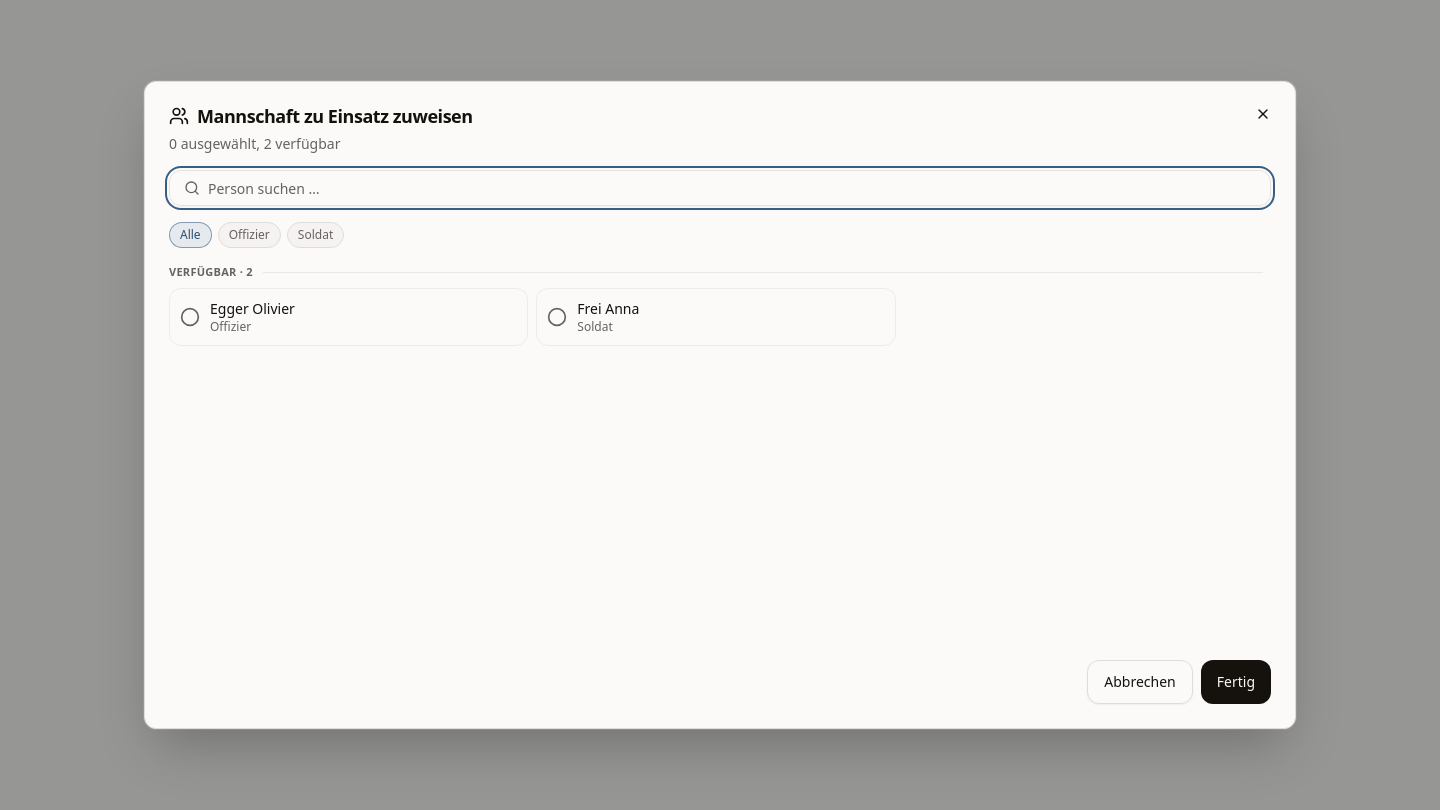
Scenario: (a) a filter emptied the list › «Filter zurücksetzen» lifts the filters and keeps the search and the ticks
The width and height of the screenshot is (1440, 810).
Step 1. Click the button "Frei Anna Soldat" → (608, 308), box [536,288,896,346]
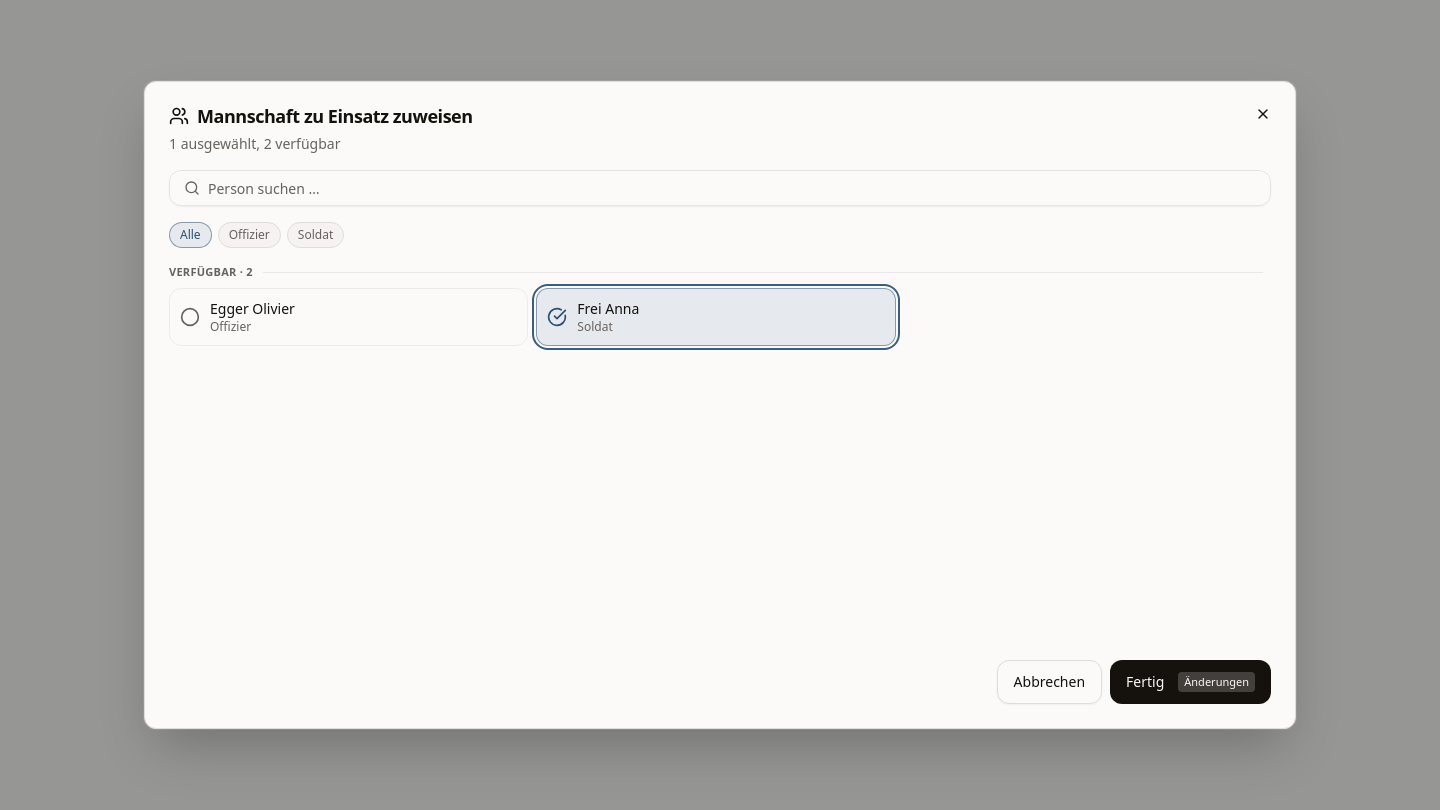
Step 2. Type "frei" into the field with placeholder "Person suchen …" → (720, 188), box [169,170,1271,206]
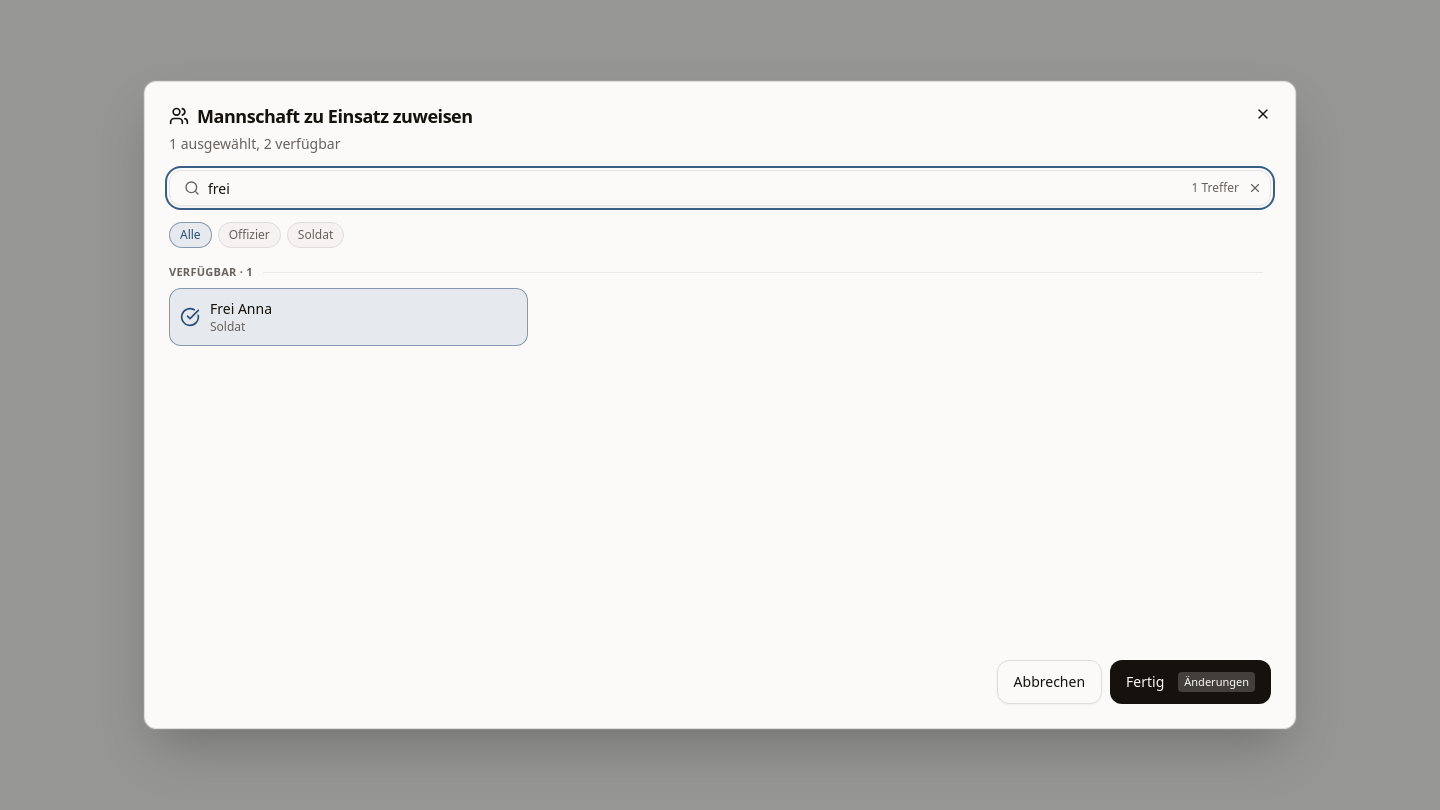
Step 3. Click the button "Offizier" → (249, 235), box [218,222,281,248]
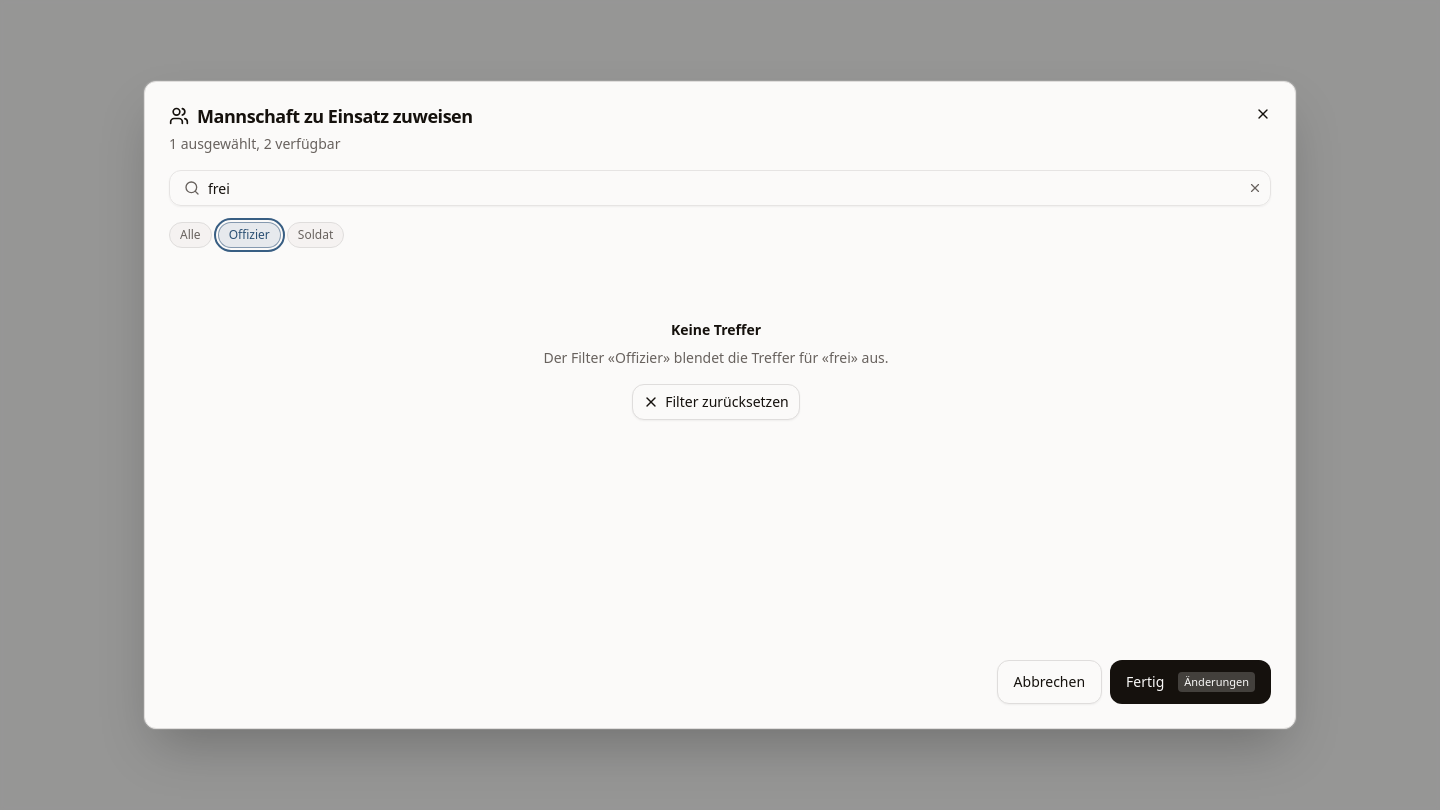
Expected: the message shows "«Offizier»", [544,348,889,367]
Expected: the message shows "«frei»", [544,348,889,367]
Step 4. Click the button "Filter zurücksetzen" → (716, 402), box [632,384,800,420]
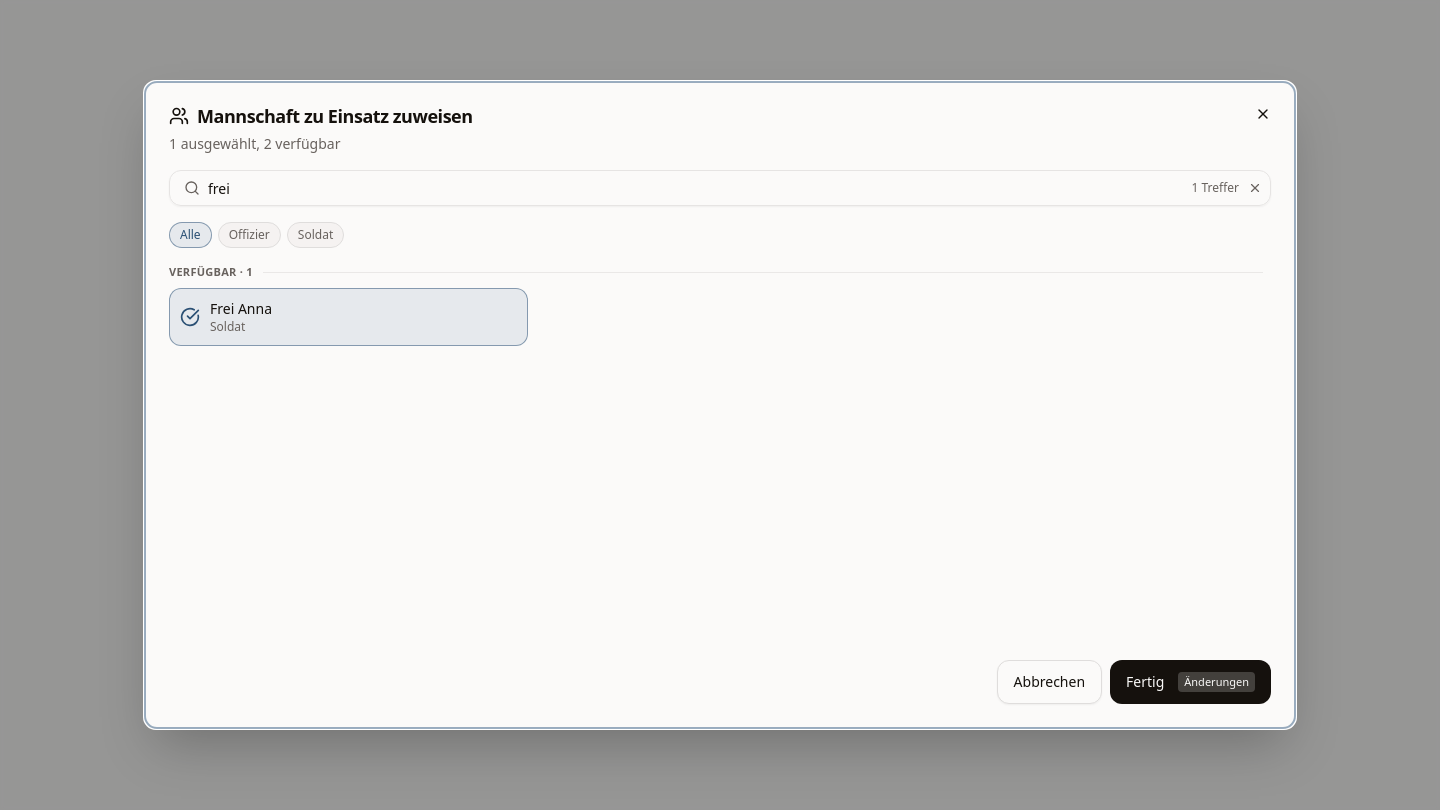
Expected: the text "1 ausgewählt, 2 verfügbar" is shown, [169,134,340,153]
Expected: the button "Frei Anna Soldat" is shown, [169,288,528,346]
